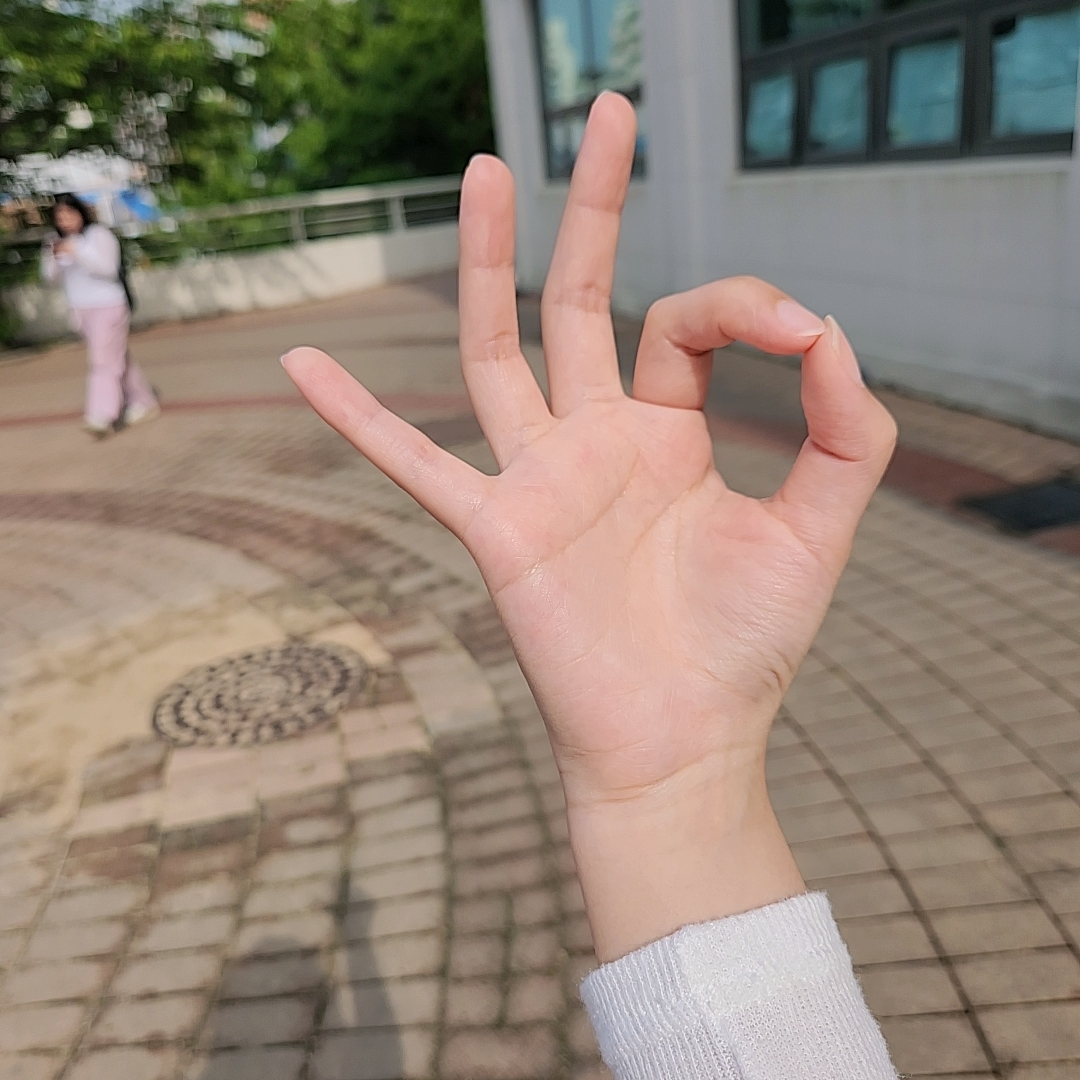see: (283, 88, 901, 729)
